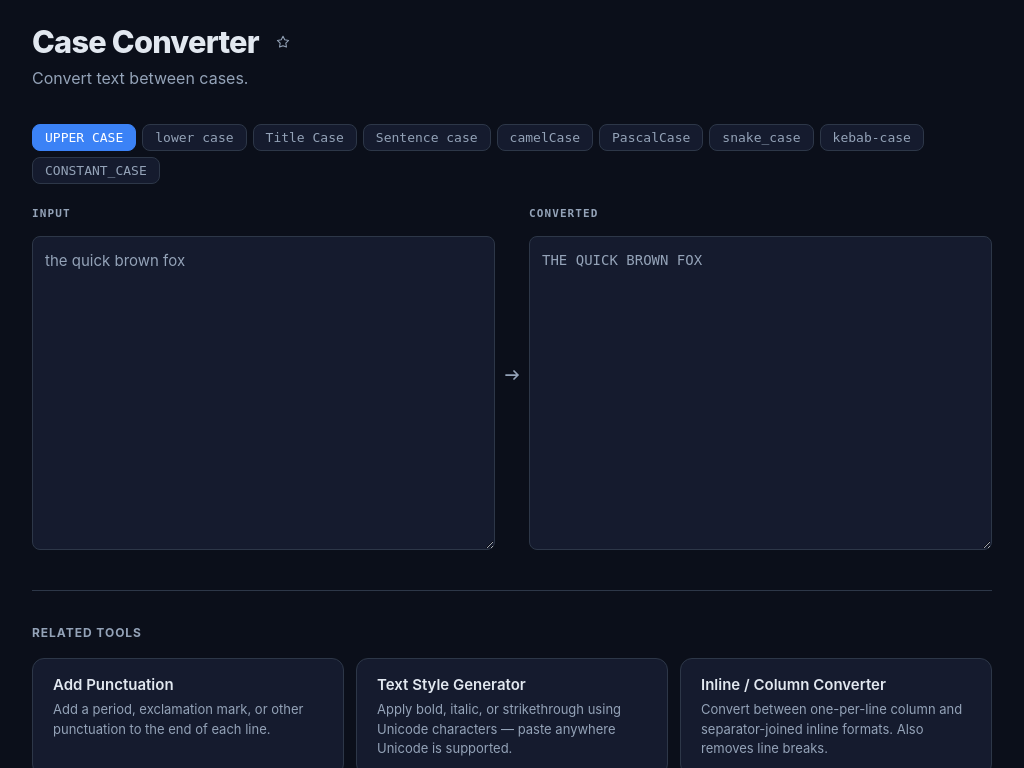
Test: CaseConverter › converts to uppercase by default
This screenshot has width=1024, height=768.
Type "hello" into the text box named "input". click: [264, 393]
box: [32,236,495,550]
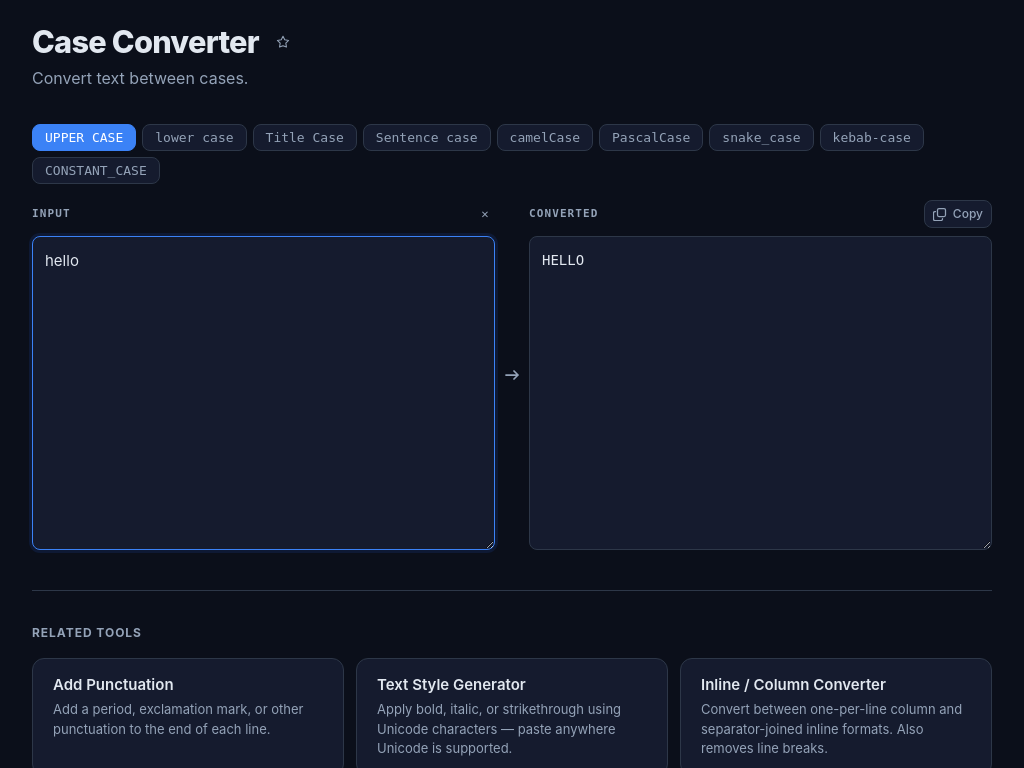
Check: the text box named "converted" holds "HELLO", box [529,236,992,550]
